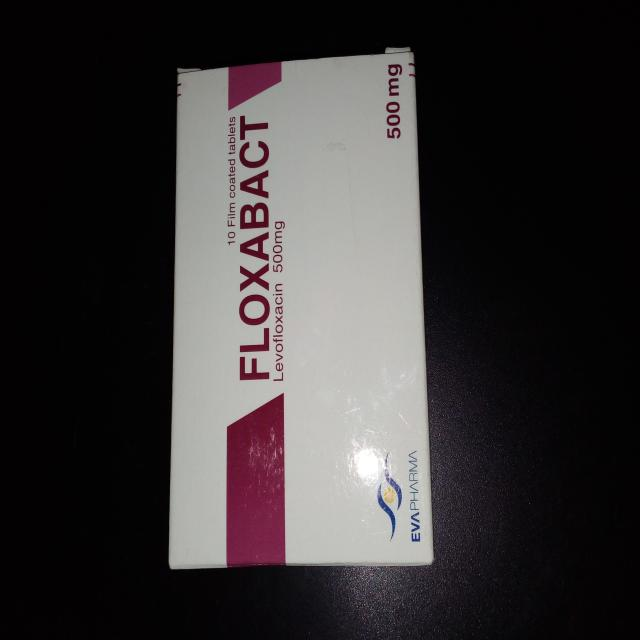Medicine: (165, 40, 435, 571)
